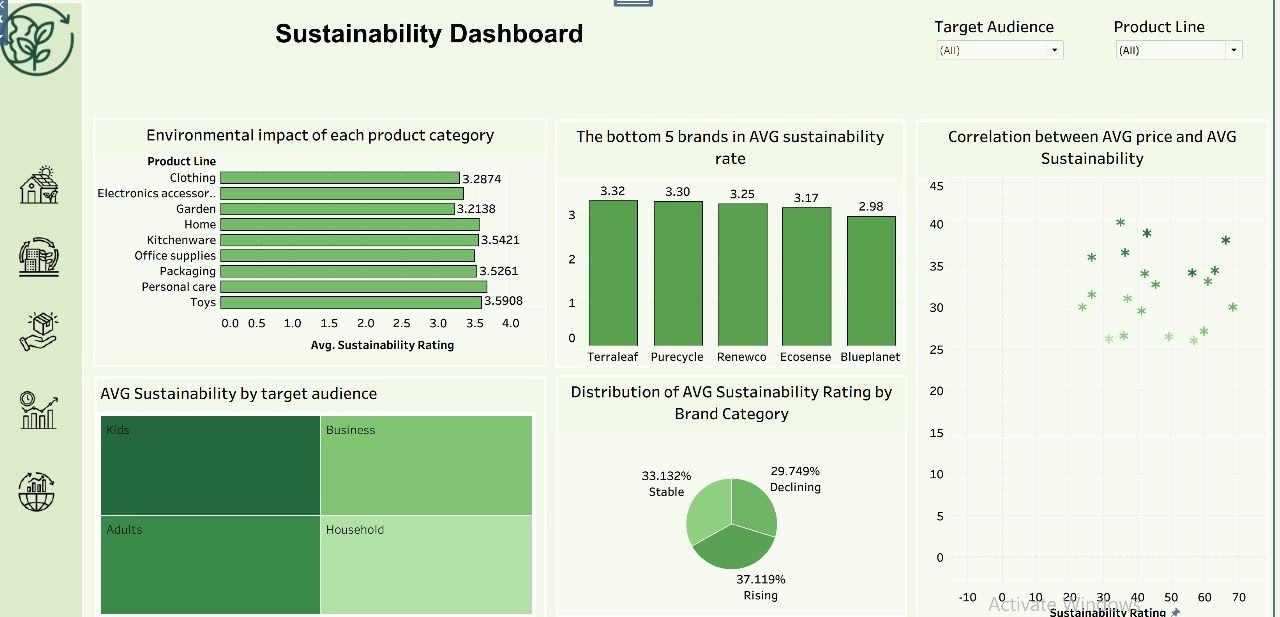

This screenshot's page, from the dashboard's own definition file:
{"tool":"powerbi","page":{"name":"Dashboard3","canvas":[1280,720],"ordinal":3},"visuals":[{"type":"clusteredColumnChart","fields":{"Category":["Sustainability_Fact.product_line"],"Y":["Avg(Sustainability_Fact.sustainability_rating)"]},"box":[834.6,18.7,433.2,334.3],"z":0},{"type":"clusteredBarChart","fields":{"Category":["Brand_dim.brand_name"],"Y":["Avg(Sustainability_Fact.sustainability_rating)"]},"box":[576.2,370.6,311.2,334.3],"z":1000},{"type":"donutChart","title":"Avg price for every brand category","fields":{"Category":["Market_Trend_dim.market_trend","Brand_dim.brand_category"],"Y":["Avg(Sustainability_Fact.sustainability_rating)"]},"box":[576.2,24.2,250.7,328.8],"z":2000},{"type":"ribbonChart","title":"Year_over_Year_Change","fields":{"Category":["Brand_dim.brand_name"],"Y":["Divide(Measure.Year_over_Year_Change_in_Water_Usage, ScopedEval(Measure.Year_over_Year_Change_in_Water_Usage, []))","Divide(Measure.YoY_Change_Carbon_Footprint, ScopedEval(Measure.YoY_Change_Carbon_Footprint, []))"]},"box":[899.5,370.6,368.4,339.8],"z":3000},{"type":"shape","box":[0,0,172.6,720.2],"z":4000},{"type":"actionButton","title":"Home","box":[20.9,18.7,129.8,36.3],"z":5000},{"type":"actionButton","title":"Dashboard 2","box":[20.9,112.2,126.5,34.1],"z":6000},{"type":"actionButton","title":"Dashboard 1","box":[20.9,63.8,127.6,36.3],"z":7000},{"type":"actionButton","title":"Dashboard 4","box":[19.8,153.9,129.8,31.9],"z":8000},{"type":"listSlicer","title":"brand name","fields":{"Values":["Brand_dim.brand_name"]},"box":[6.6,421.1,158.3,211.1],"z":9000},{"type":"listSlicer","title":"sustainability level","fields":{"Values":["Sustainability_Fact.sustainability_level"]},"box":[5.5,210,161.6,201.2],"z":10000},{"type":"clusteredBarChart","title":" Enviromental impact for  countries by sustainability rating","fields":{"Category":["Country_dim.country_name"],"Y":["Avg(Sustainability_Fact.water_usage)","Avg(Sustainability_Fact.waste_production)","Avg(Sustainability_Fact.carbon_footprint)"]},"box":[181.4,18.7,383.8,686.1],"z":11000}]}

Visuals, with their boxes on the page's 1280x720 design canvas (x1, y1, x2, y2). These are canvas units, not pixel positions in the 1280x617 screenshot, which may show the page scaled, cropped or inside an application window:
clusteredColumnChart - Sustainability_Fact.product_line x Avg(Sustainability_Fact.sustainability_rating): [x1=835, y1=19, x2=1268, y2=353]
clusteredBarChart - Brand_dim.brand_name x Avg(Sustainability_Fact.sustainability_rating): [x1=576, y1=371, x2=887, y2=705]
"Avg price for every brand category" donutChart: [x1=576, y1=24, x2=827, y2=353]
"Year_over_Year_Change" ribbonChart: [x1=900, y1=371, x2=1268, y2=710]
shape: [x1=0, y1=0, x2=173, y2=720]
"Home" actionButton: [x1=21, y1=19, x2=151, y2=55]
"Dashboard 2" actionButton: [x1=21, y1=112, x2=147, y2=146]
"Dashboard 1" actionButton: [x1=21, y1=64, x2=148, y2=100]
"Dashboard 4" actionButton: [x1=20, y1=154, x2=150, y2=186]
"brand name" listSlicer: [x1=7, y1=421, x2=165, y2=632]
"sustainability level" listSlicer: [x1=6, y1=210, x2=167, y2=411]
" Enviromental impact for  countries by sustainability rating" clusteredBarChart: [x1=181, y1=19, x2=565, y2=705]
